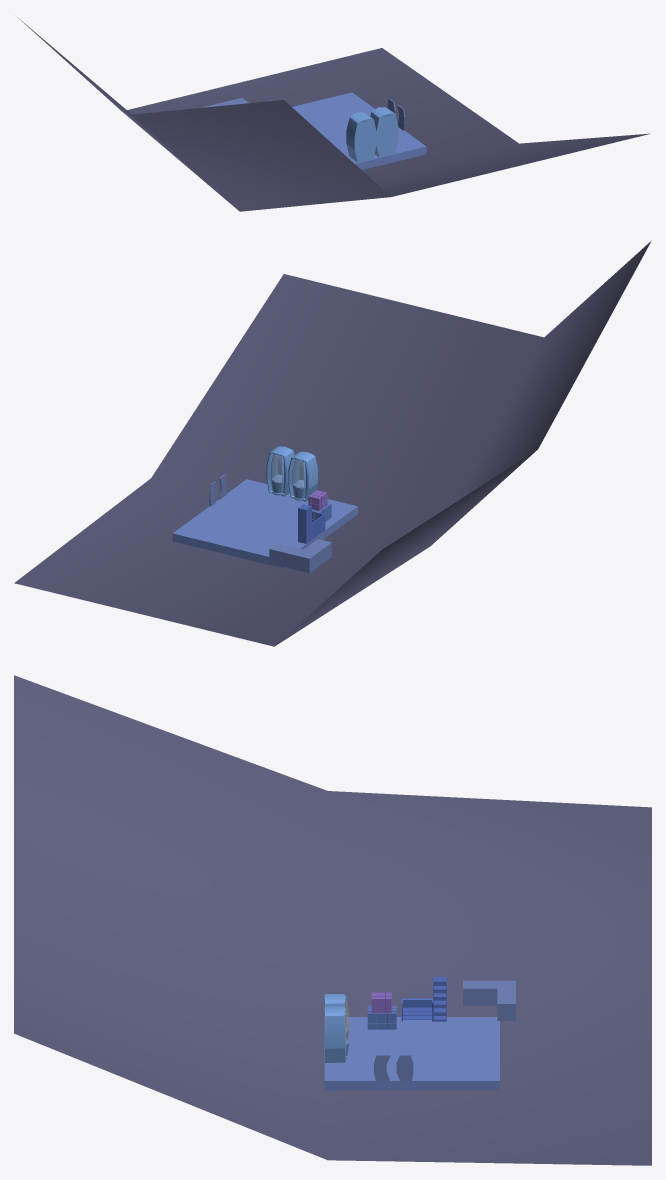
The model's file is coldroom.fbx.
3 views of the same model, one above another, from view 1: azimuth 30°, elevation 25°; view 2: azimuth 150°, elevation 25°; view 3: azimuth 270°, elevation 25° (orthographic). The views are drawn at different scales.
Parts seen in each view (by area): view 1: pCube135, pCube75, polySurface5, polySurface3; view 2: pCube135, pCube75, pCube93, polySurface5, polySurface3; view 3: pCube135, pCube75, pCube93, polySurface3, pCube54.
Boxes of the visible parts, x1,y1,x2,y2 form: pCube135: (18, 18, 650, 211); pCube75: (292, 92, 426, 169); polySurface5: (346, 112, 376, 162); polySurface3: (370, 107, 398, 157); pCube135: (14, 240, 651, 646); pCube75: (172, 479, 357, 568); pCube93: (269, 539, 331, 573); polySurface5: (288, 451, 317, 501); polySurface3: (266, 446, 294, 496); pCube135: (14, 675, 651, 1165); pCube75: (324, 1017, 499, 1090); pCube93: (463, 980, 515, 1020); polySurface3: (324, 1006, 348, 1062); pCube54: (401, 998, 433, 1021).
Bounding box in the file's own units: 25.76 × 14.96 × 31.09.
